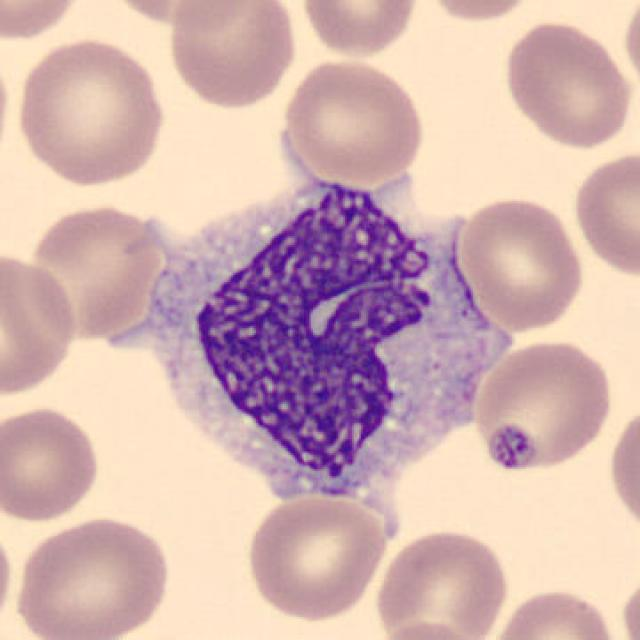Monocyte: (119, 164, 516, 518)
Platelets: (484, 422, 538, 472)
RBC: (11, 35, 169, 189), (21, 199, 169, 342), (9, 513, 174, 640), (469, 337, 615, 474), (242, 490, 389, 624), (277, 57, 428, 185), (449, 192, 586, 333), (498, 15, 634, 152), (372, 524, 514, 638), (166, 0, 300, 111), (0, 402, 103, 525), (0, 247, 82, 400), (569, 147, 638, 280), (483, 583, 625, 640), (297, 0, 421, 60), (98, 0, 254, 32), (606, 397, 640, 541), (0, 0, 89, 44), (416, 0, 546, 25), (370, 617, 487, 640), (620, 2, 640, 97), (617, 566, 640, 640), (0, 39, 12, 180)
